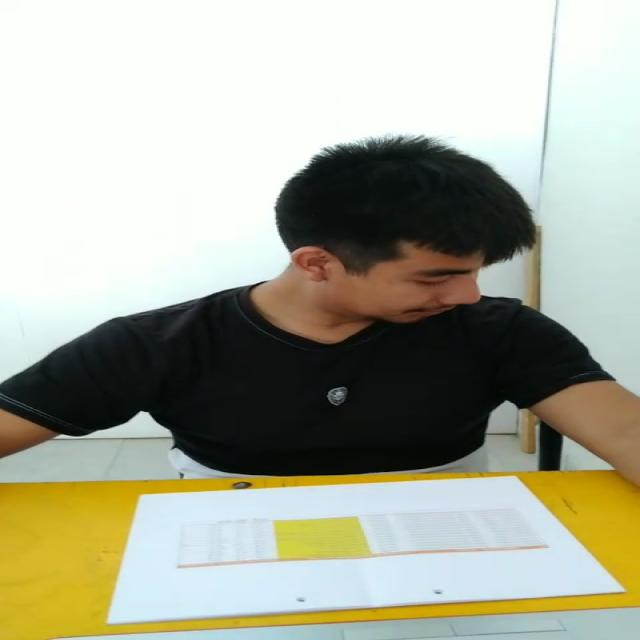9_cabeza_baja: (275, 137, 537, 324)
